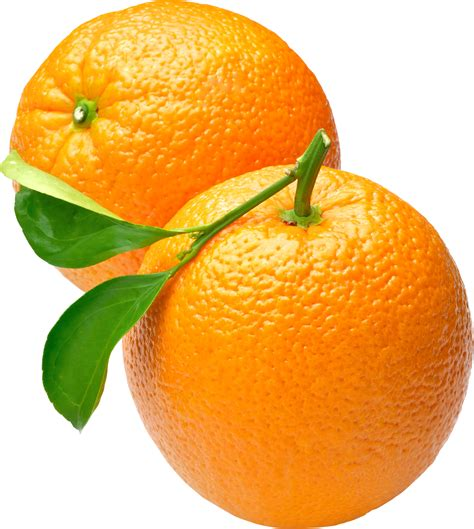orange: (115, 158, 473, 529), (1, 1, 366, 304)
